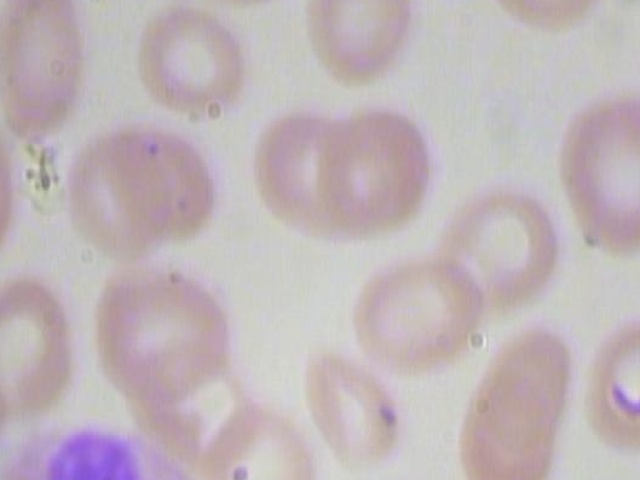RBC: (427, 173, 568, 321), (347, 239, 488, 386), (88, 260, 232, 401), (313, 93, 442, 236), (289, 329, 418, 472), (551, 77, 640, 265), (234, 99, 348, 242), (49, 131, 169, 265), (103, 116, 222, 251), (122, 3, 250, 126), (465, 320, 581, 446), (0, 0, 86, 145), (299, 0, 428, 91), (187, 399, 331, 480), (567, 301, 640, 449), (450, 394, 565, 480), (490, 0, 605, 31), (153, 0, 330, 5)
WBC: (0, 422, 228, 480)
